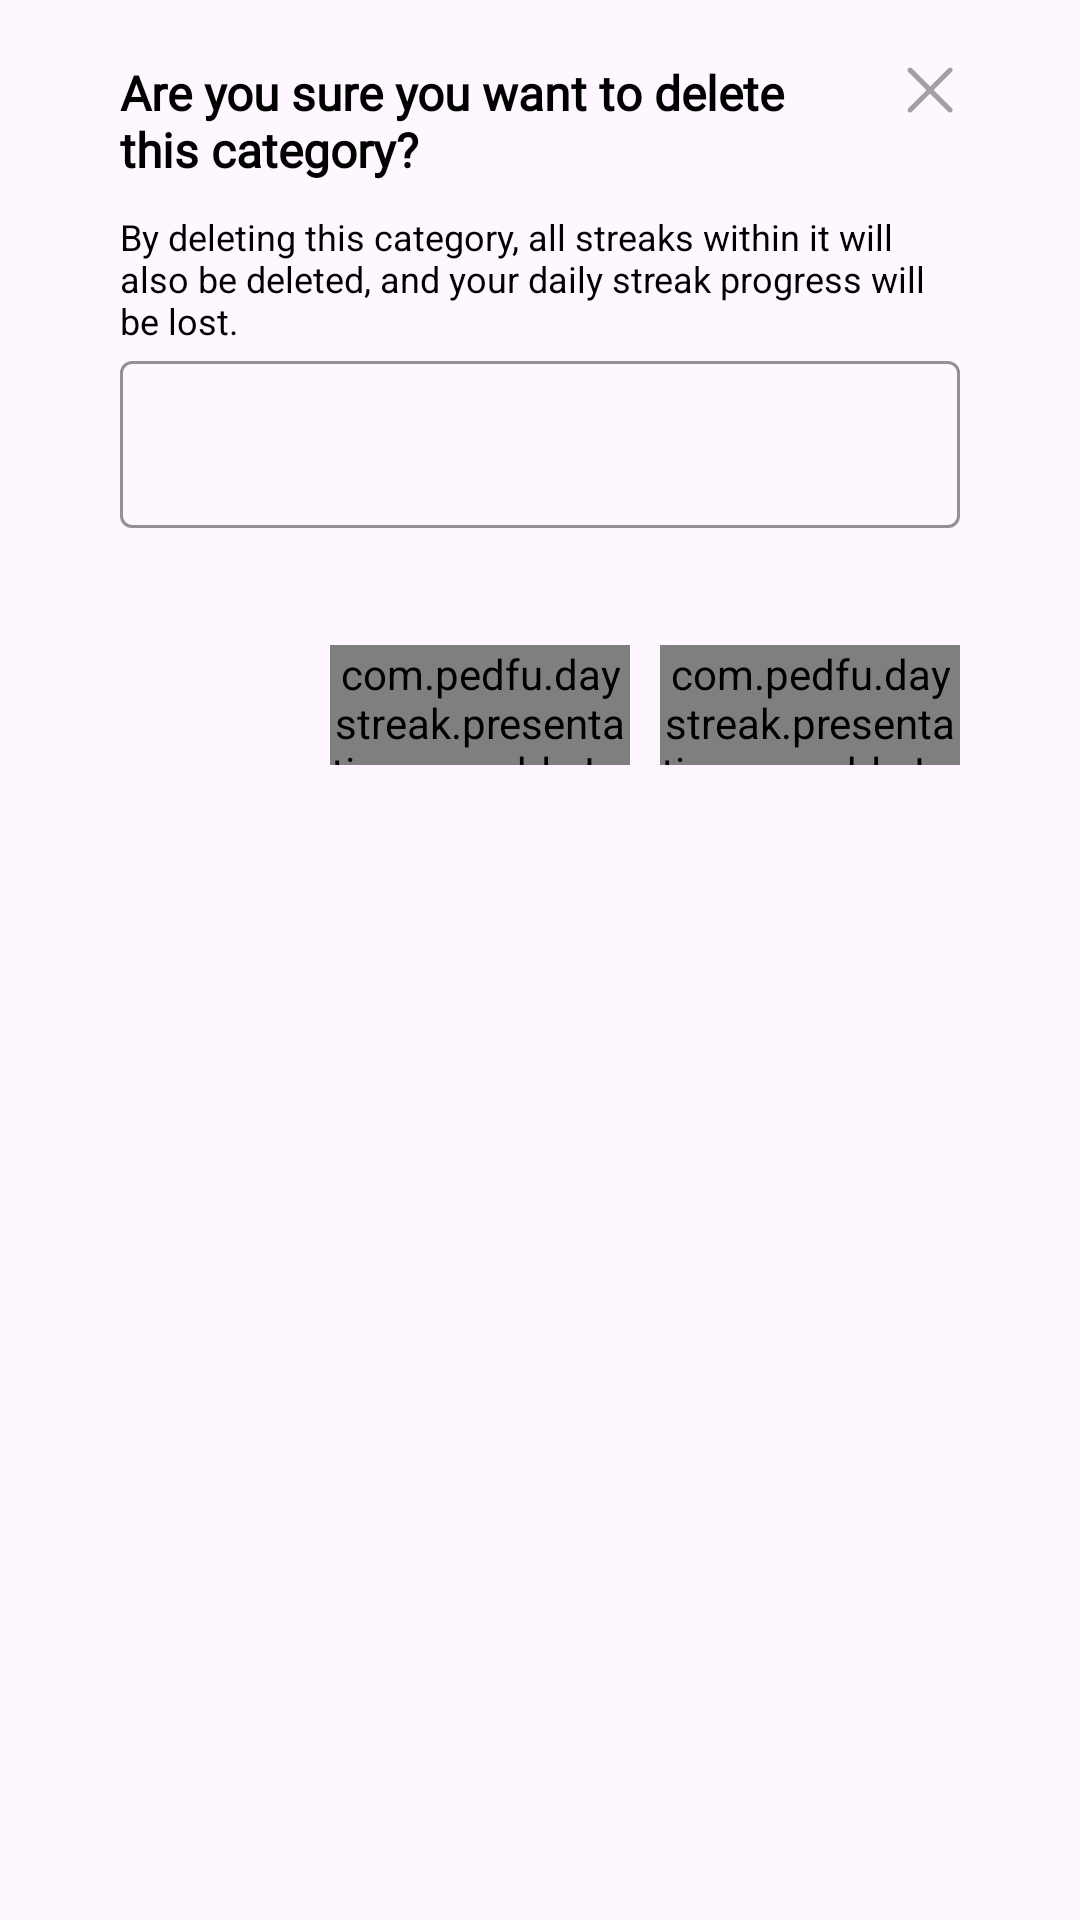

Screen size 1080×1920. Icon name, then its center in pixels as (x=x, y=y):
close: (x=930, y=90)
